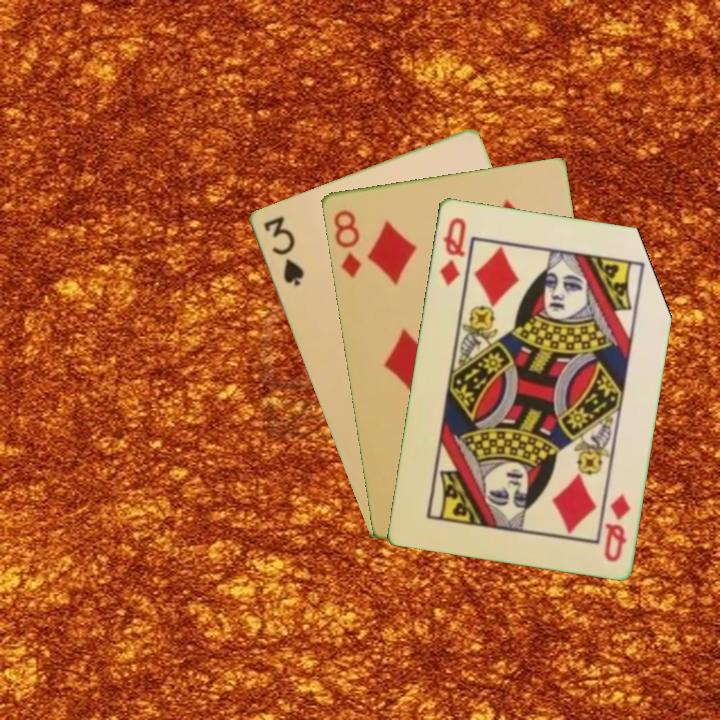3s: (259, 212, 307, 289)
8d: (329, 206, 364, 281)
Qd: (435, 213, 469, 288), (600, 490, 633, 565)
